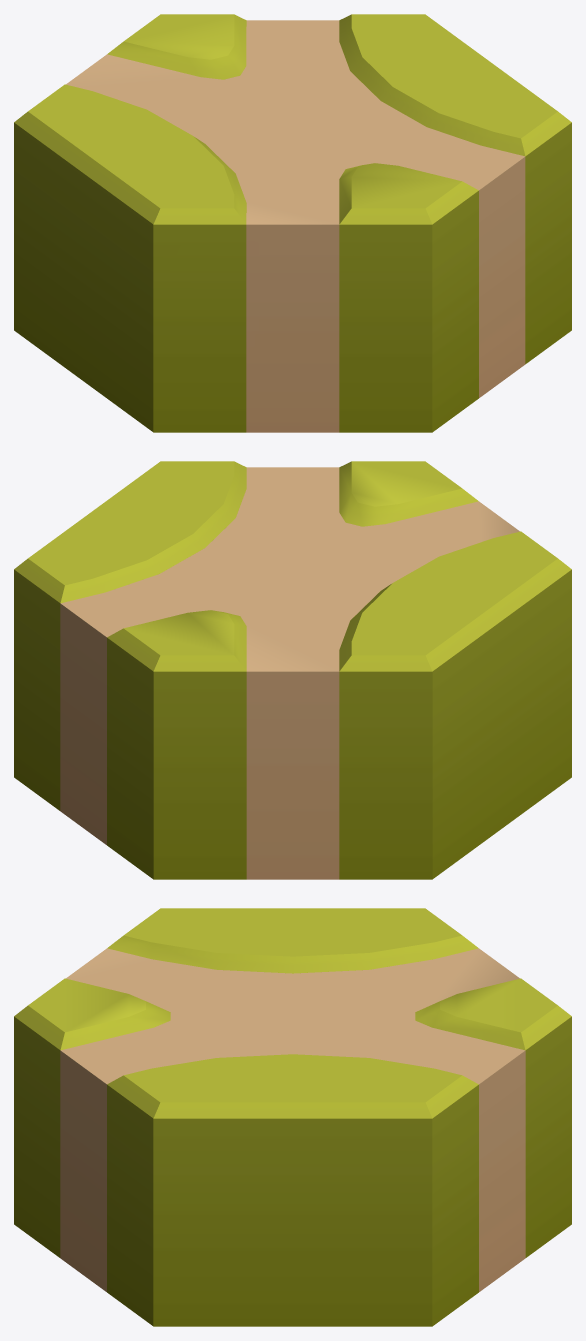
Rendered from kaykit-medieval-hexagon-pack-hex-road-i.glb.
3 views of the same model, one above another, from view 1: azimuth 30°, elevation 25°; view 2: azimuth 150°, elevation 25°; view 3: azimuth 270°, elevation 25° (orthographic).
Parts seen in each view (by area): view 1: hex_road_I; view 2: hex_road_I; view 3: hex_road_I.
Boxes of the visible parts, <box> form: hex_road_I: <box>14,14,571,432</box>; hex_road_I: <box>14,461,571,879</box>; hex_road_I: <box>14,908,571,1326</box>.
Bounding box in the file's own units: 2 × 1 × 2.31.
Materials: 1 (1 with a texture image).
